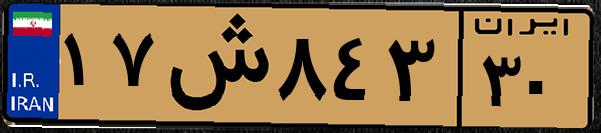0: (525, 38, 570, 115)
1: (57, 26, 110, 100)
3: (385, 28, 445, 110), (475, 38, 525, 113)
4: (330, 28, 385, 110)
7: (110, 28, 158, 98)
8: (270, 28, 330, 110)
ش: (158, 12, 270, 120)
